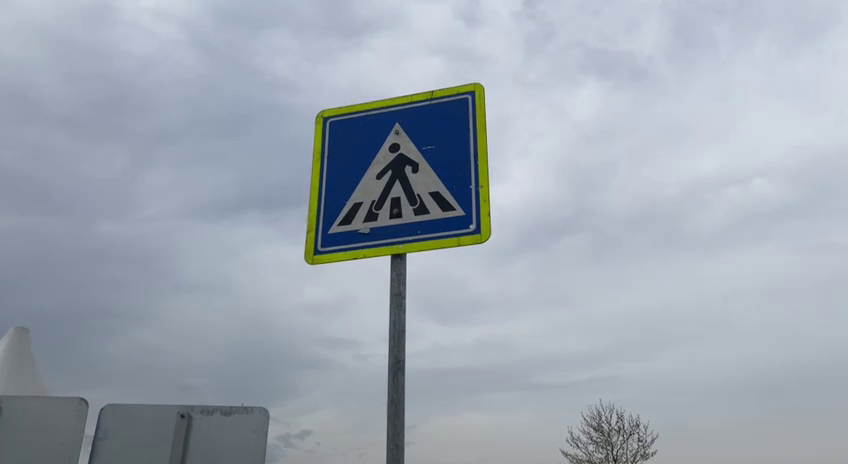pedestrianCrossing: (302, 81, 493, 266)
